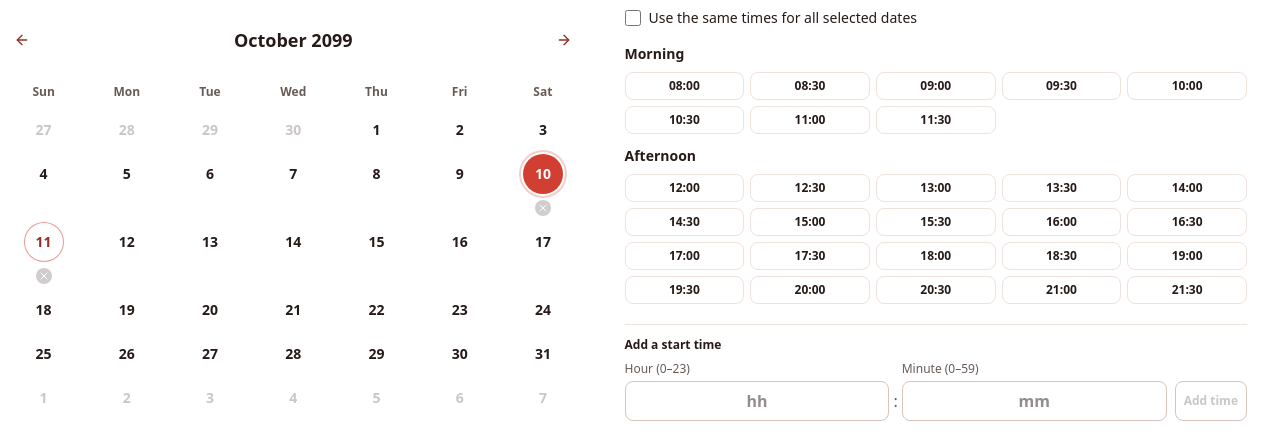
Test: schedule time cards › distinguishes the active calendar date without a separate date heading
What coordinates should you click on to do the following:
click the button "09:00"
I would click on:
 (936, 86)
Its box is left=876, top=72, right=996, bottom=100.
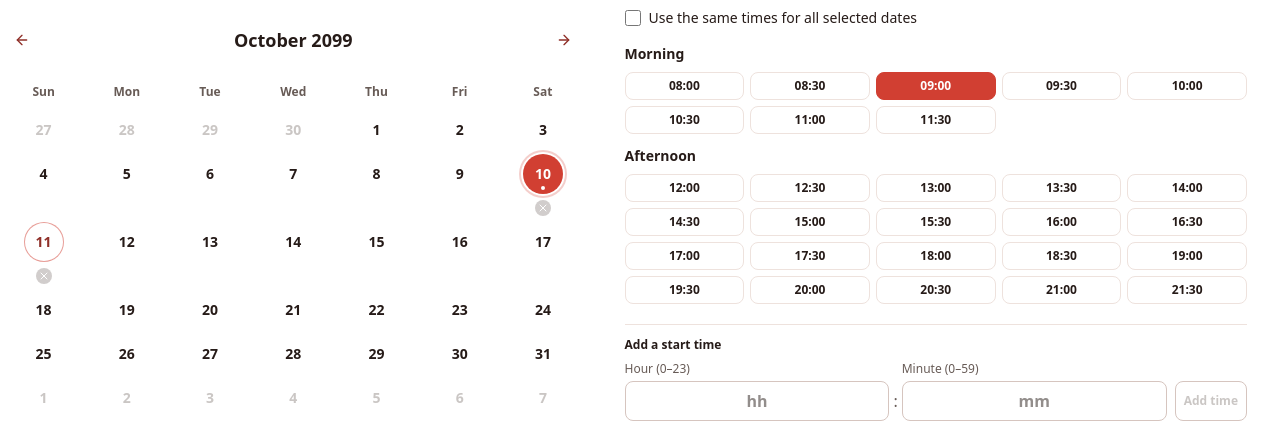
Check: the element with test id "schedule-status-2099-10-10" is shown, box left=541, top=186, right=545, bottom=190
What coordinates should you click on to do the following:
click the button named "Edit start times for October 11, 2099"
I would click on:
 (44, 242)
Its box is left=22, top=220, right=66, bottom=264.
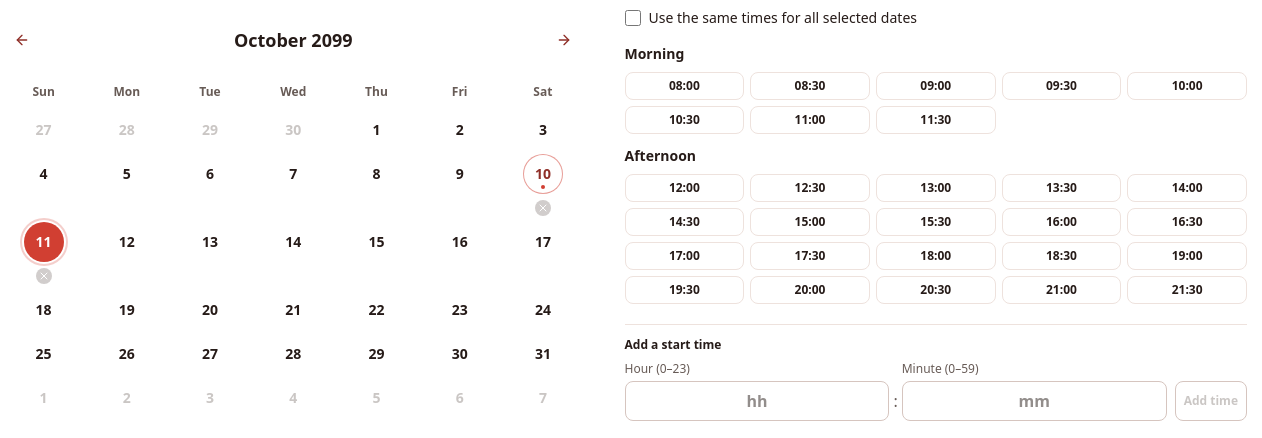
Check: the button named "Edit start times for October 11, 2099" has attribute aria-current="date", box left=22, top=220, right=66, bottom=264
Check: the button named "Edit start times for October 10, 2099" does not have attribute aria-current
What coordinates should you click on to do the following:
click the button named "Edit start times for October 10, 2099"
I would click on:
 (543, 174)
Its box is left=521, top=152, right=565, bottom=196.
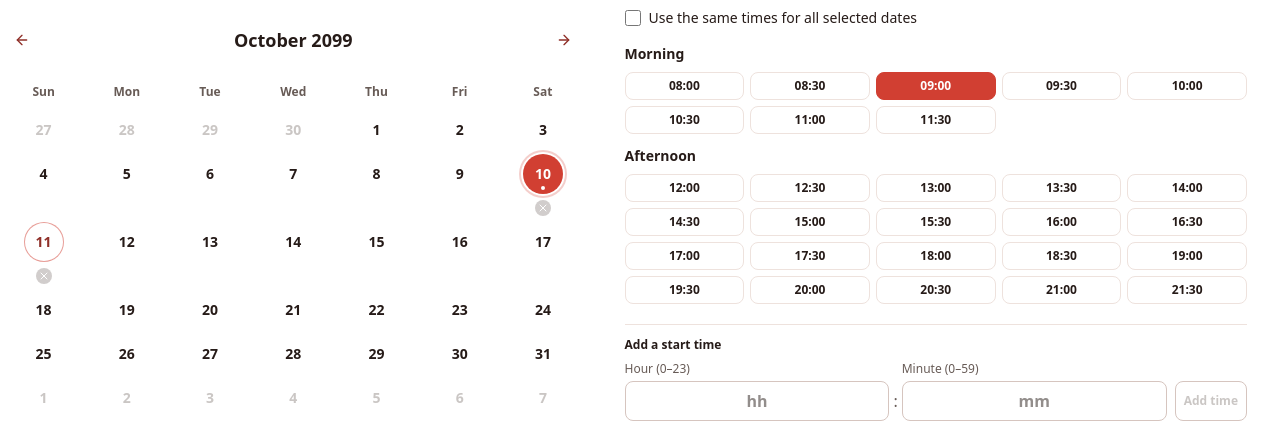
What coordinates should you click on to do the following:
click the button "09:00"
I would click on:
 (936, 86)
Its box is left=876, top=72, right=996, bottom=100.
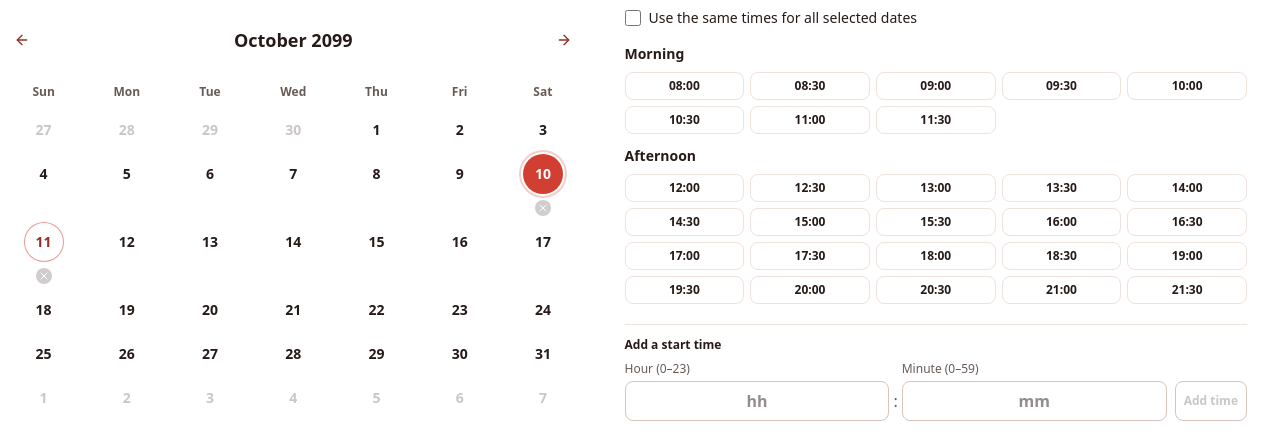
Check: the element with test id "schedule-status-2099-10-10" is gone
